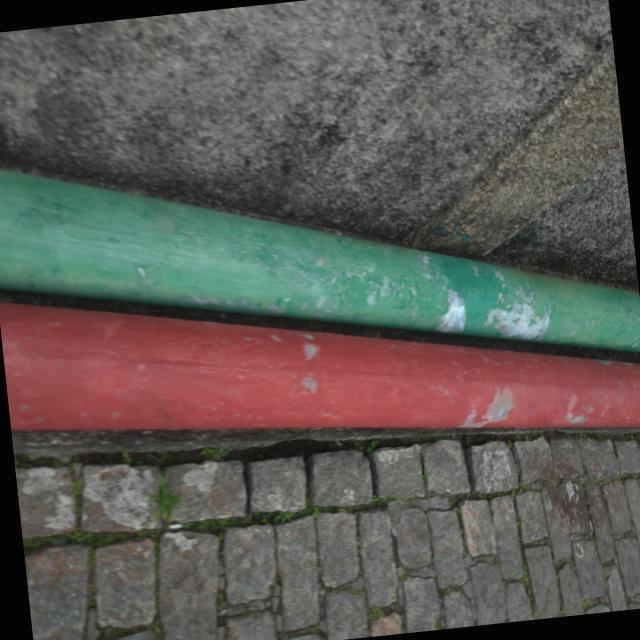gas: (0, 166, 640, 346), (0, 310, 640, 430)
